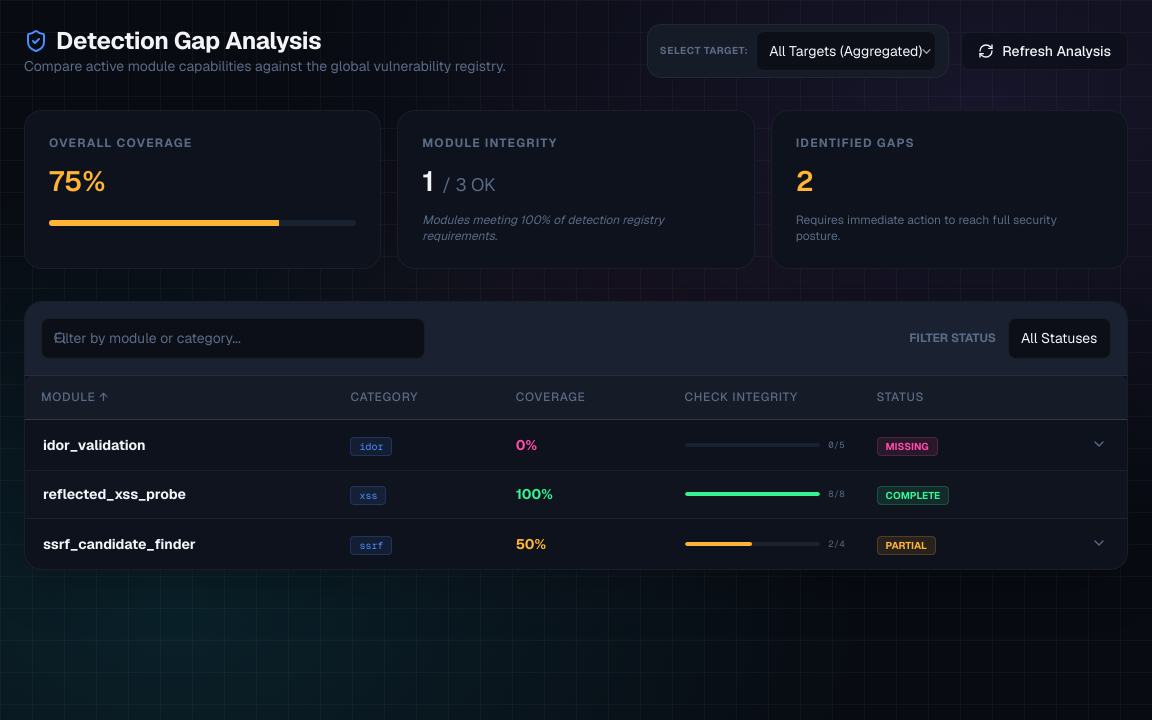
Scenario: GapAnalysisPage Component › filters rows based on search query
Expected: the text "ssrf_candidate_finder" is shown, top-left (43, 535), bottom-right (196, 553)
Type "idor" into the field with placeholder "Filter by module or category..." at (233, 338), box top-left (41, 318), bottom-right (425, 359)
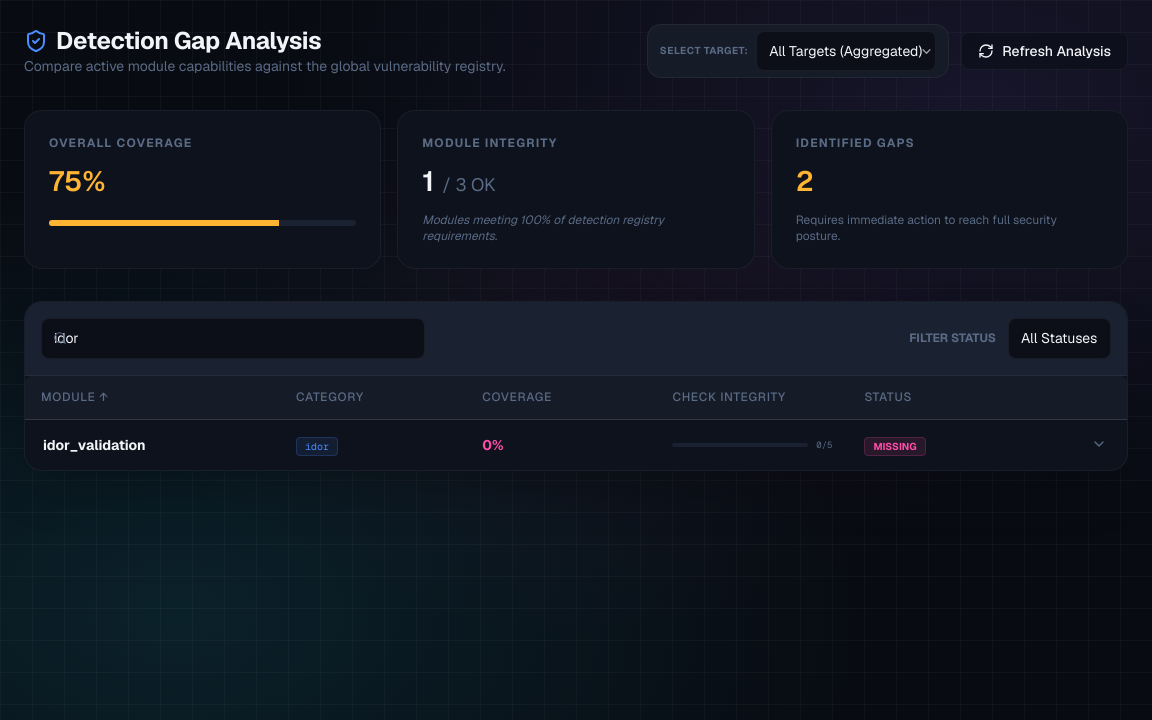
Expected: the text "idor_validation" is shown, top-left (43, 436), bottom-right (146, 454)
Result: the text "ssrf_candidate_finder" is gone
Result: the text "reflected_xss_probe" is gone
